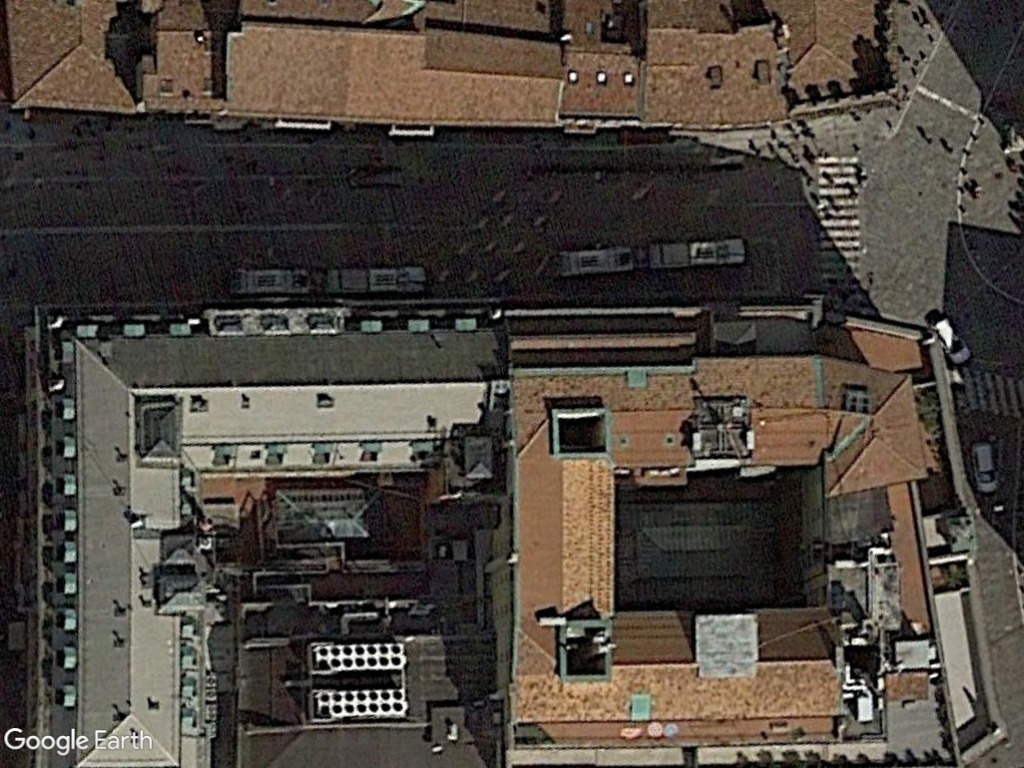bus: (319, 264, 427, 296), (644, 240, 750, 271), (550, 244, 634, 280), (225, 267, 317, 297)
car: (930, 315, 976, 367), (965, 437, 1003, 497)
